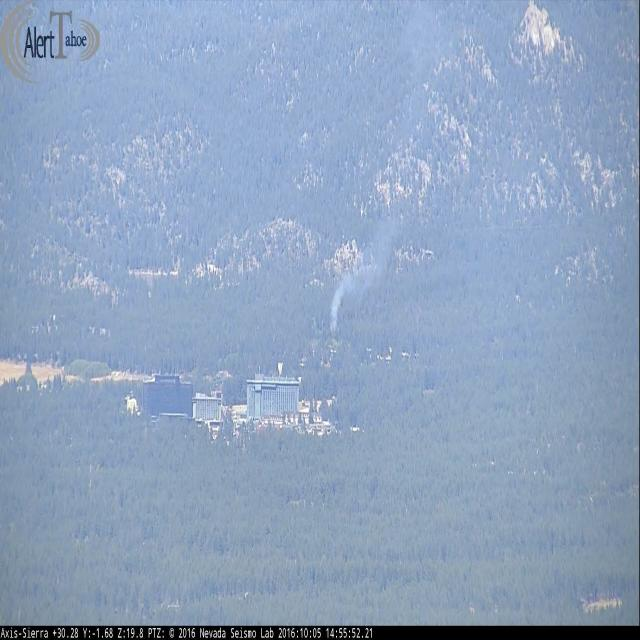smoke: (330, 224, 391, 340)
